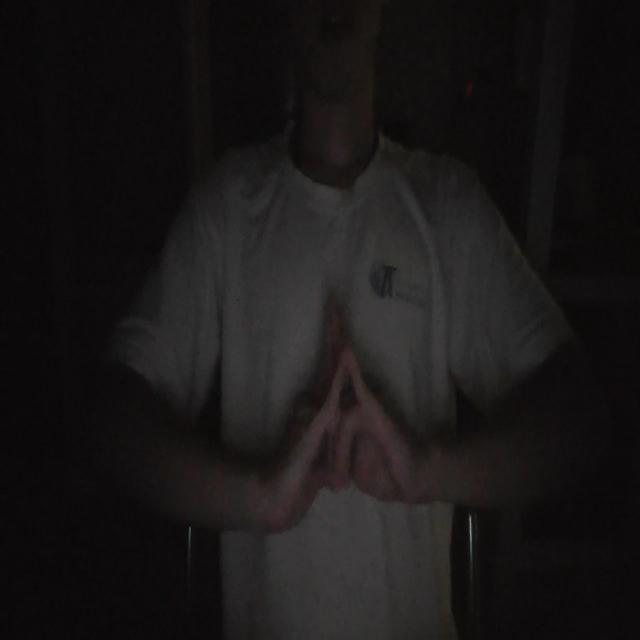bird: (266, 289, 414, 535)
